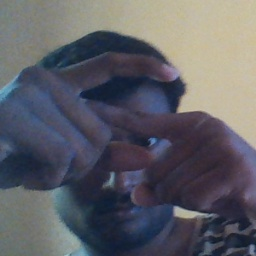E: (59, 48, 187, 180)
